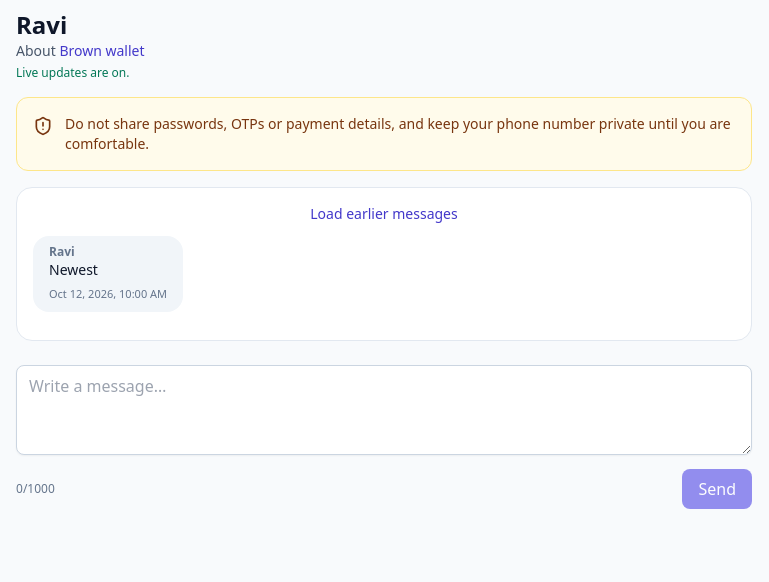
Test: Chat › loads earlier messages with a cursor
Click the button "Load earlier messages" at (384, 214), box [310, 204, 458, 224]
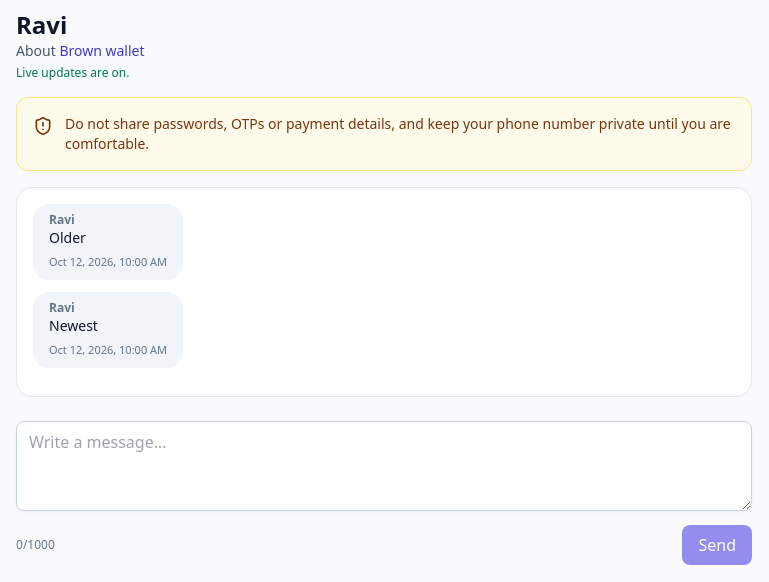
Expected: the text "Older" is shown, [49, 228, 86, 247]
